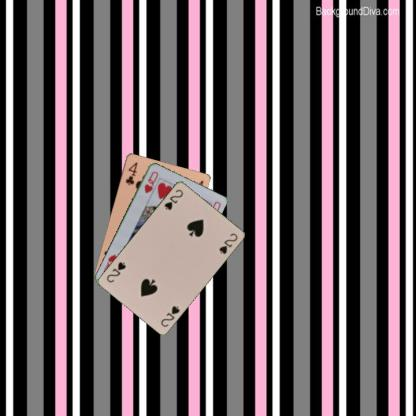2s: (158, 302, 181, 327), (162, 186, 184, 212)
4c: (123, 160, 139, 186)
Qh: (142, 168, 160, 194)
